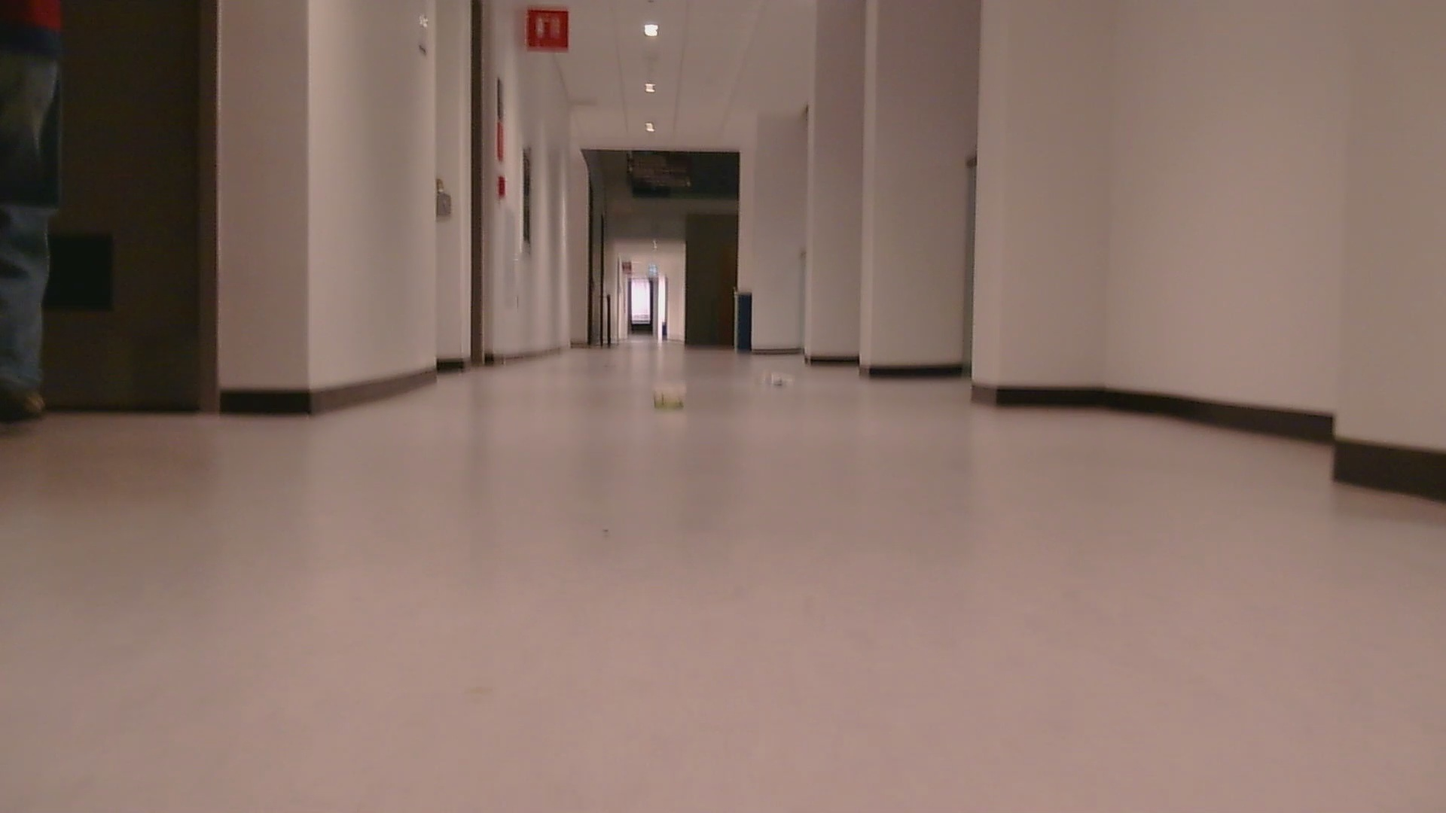carton: (759, 366, 828, 401), (637, 382, 700, 420)
